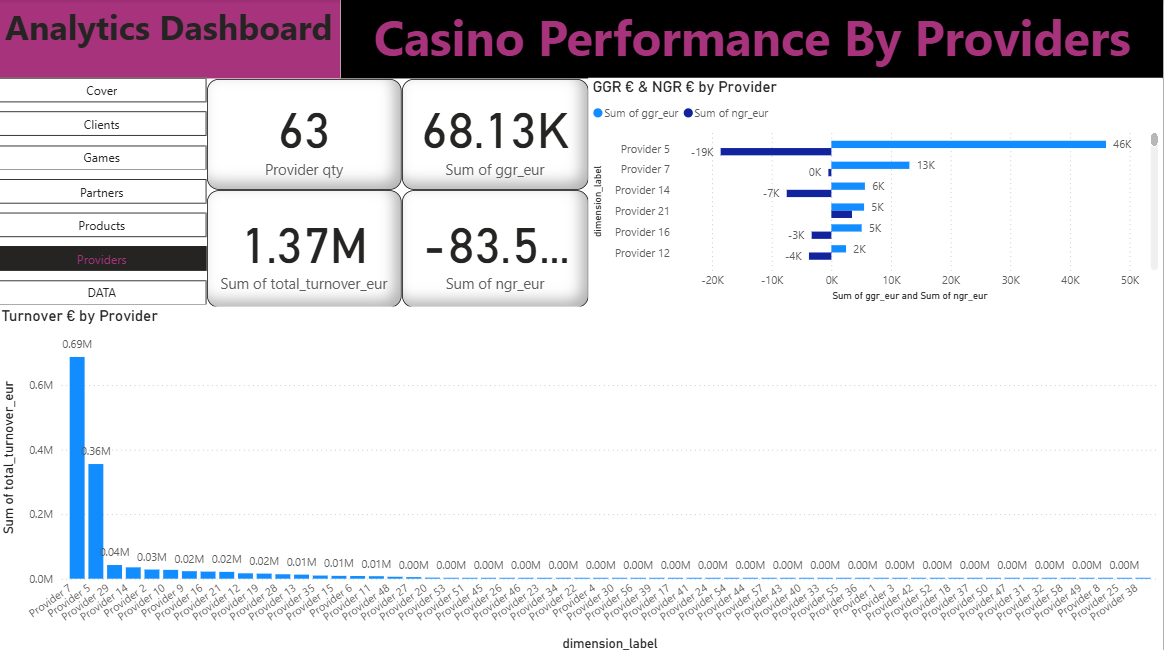

The dashboard page shown, as its layout file describes it:
{"tool":"powerbi","page":{"name":"Providers","canvas":[1280,720],"ordinal":5},"visuals":[{"type":"card","fields":{"Values":["Sum(casino metrics_by_provider.total_turnover_eur)"]},"box":[230.8,209.3,213.6,129],"z":0},{"type":"card","fields":{"Values":["Sum(casino metrics_by_provider.ggr_eur)"]},"box":[444.4,87.5,205,121.9],"z":1000},{"type":"card","fields":{"Values":["Sum(casino metrics_by_provider.ngr_eur)"]},"box":[444.4,209.3,205,129],"z":2000},{"type":"card","fields":{"Values":["Table.Provider qty"]},"box":[230.8,87.5,213.6,121.9],"z":3000},{"type":"textbox","box":[377.1,0,903.2,87.5],"z":4000},{"type":"textbox","box":[0,0,377.1,87.5],"z":5000},{"type":"clusteredColumnChart","title":"Turnover €  by Provider","fields":{"Category":["casino metrics_by_provider.dimension_label"],"Y":["Sum(casino metrics_by_provider.total_turnover_eur)"]},"box":[0,337.4,1279.8,382.8],"z":6000},{"type":"clusteredBarChart","title":"GGR €  & NGR €  by Provider","fields":{"Category":["casino metrics_by_provider.dimension_label"],"Y":["Sum(casino metrics_by_provider.ggr_eur)","Sum(casino metrics_by_provider.ngr_eur)"]},"box":[649.1,87.1,630.7,250.3],"z":7000},{"type":"pageNavigator","box":[0,87.1,230.7,251.5],"z":8000}]}

Visuals, with their boxes in screenshot pixels (x1, y1, x2, y2), scaled from the page's 1280x720 canvas onto the 1164x650 screenshot:
card - Sum(casino metrics_by_provider.total_turnover_eur): x1=210, y1=189, x2=404, y2=305
card - Sum(casino metrics_by_provider.ggr_eur): x1=404, y1=79, x2=591, y2=189
card - Sum(casino metrics_by_provider.ngr_eur): x1=404, y1=189, x2=591, y2=305
card - Table.Provider qty: x1=210, y1=79, x2=404, y2=189
textbox: x1=343, y1=0, x2=1163, y2=79
textbox: x1=0, y1=0, x2=343, y2=79
"Turnover €  by Provider" clusteredColumnChart: x1=0, y1=305, x2=1163, y2=649
"GGR €  & NGR €  by Provider" clusteredBarChart: x1=590, y1=79, x2=1163, y2=305
pageNavigator: x1=0, y1=79, x2=210, y2=306
